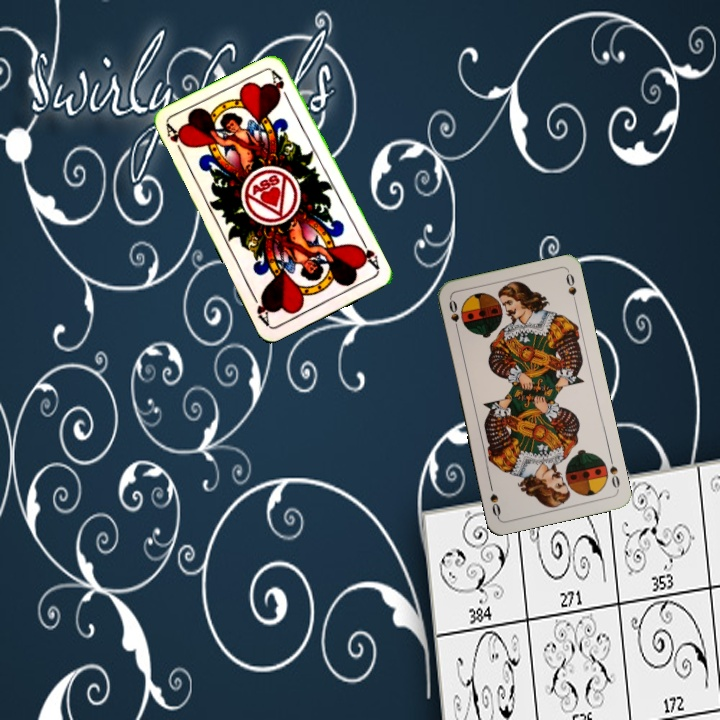HA: (353, 235, 383, 273), (162, 120, 190, 159)
SO: (445, 295, 462, 335), (605, 453, 622, 493)
